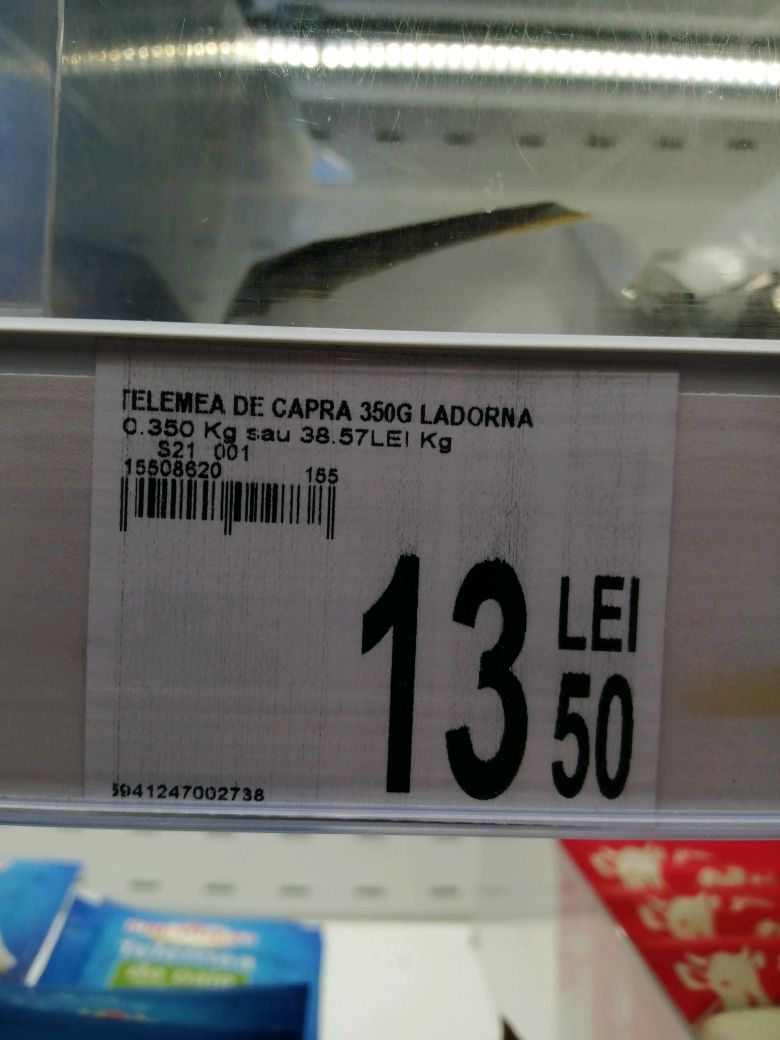price_bani: (541, 667, 648, 805)
price_lei: (347, 543, 533, 802)
price_tag: (75, 334, 678, 824)
product_id: (103, 775, 271, 808)
product_name: (103, 380, 546, 433)
